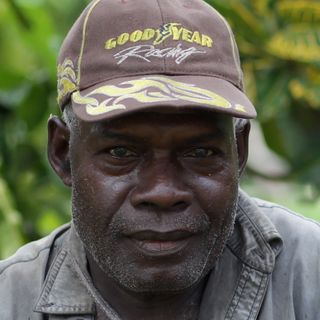eye: (95, 138, 143, 167), (177, 141, 224, 167)
